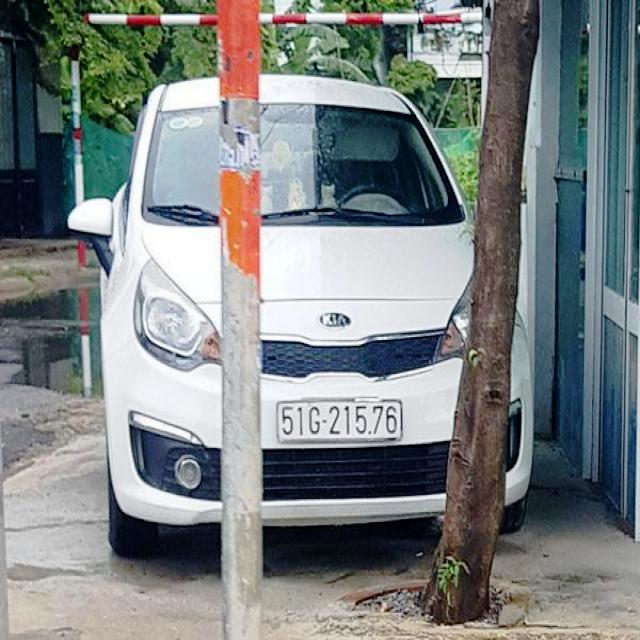license_plate: (277, 398, 405, 441)
